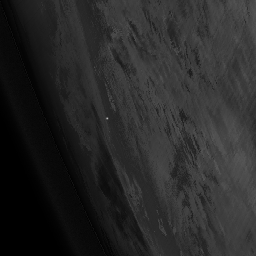Target: (104, 116, 110, 121)
